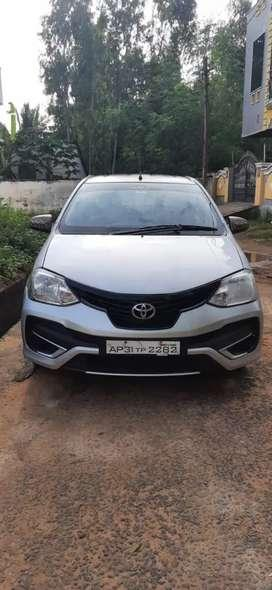AP31TP2282: (105, 339, 179, 354)
